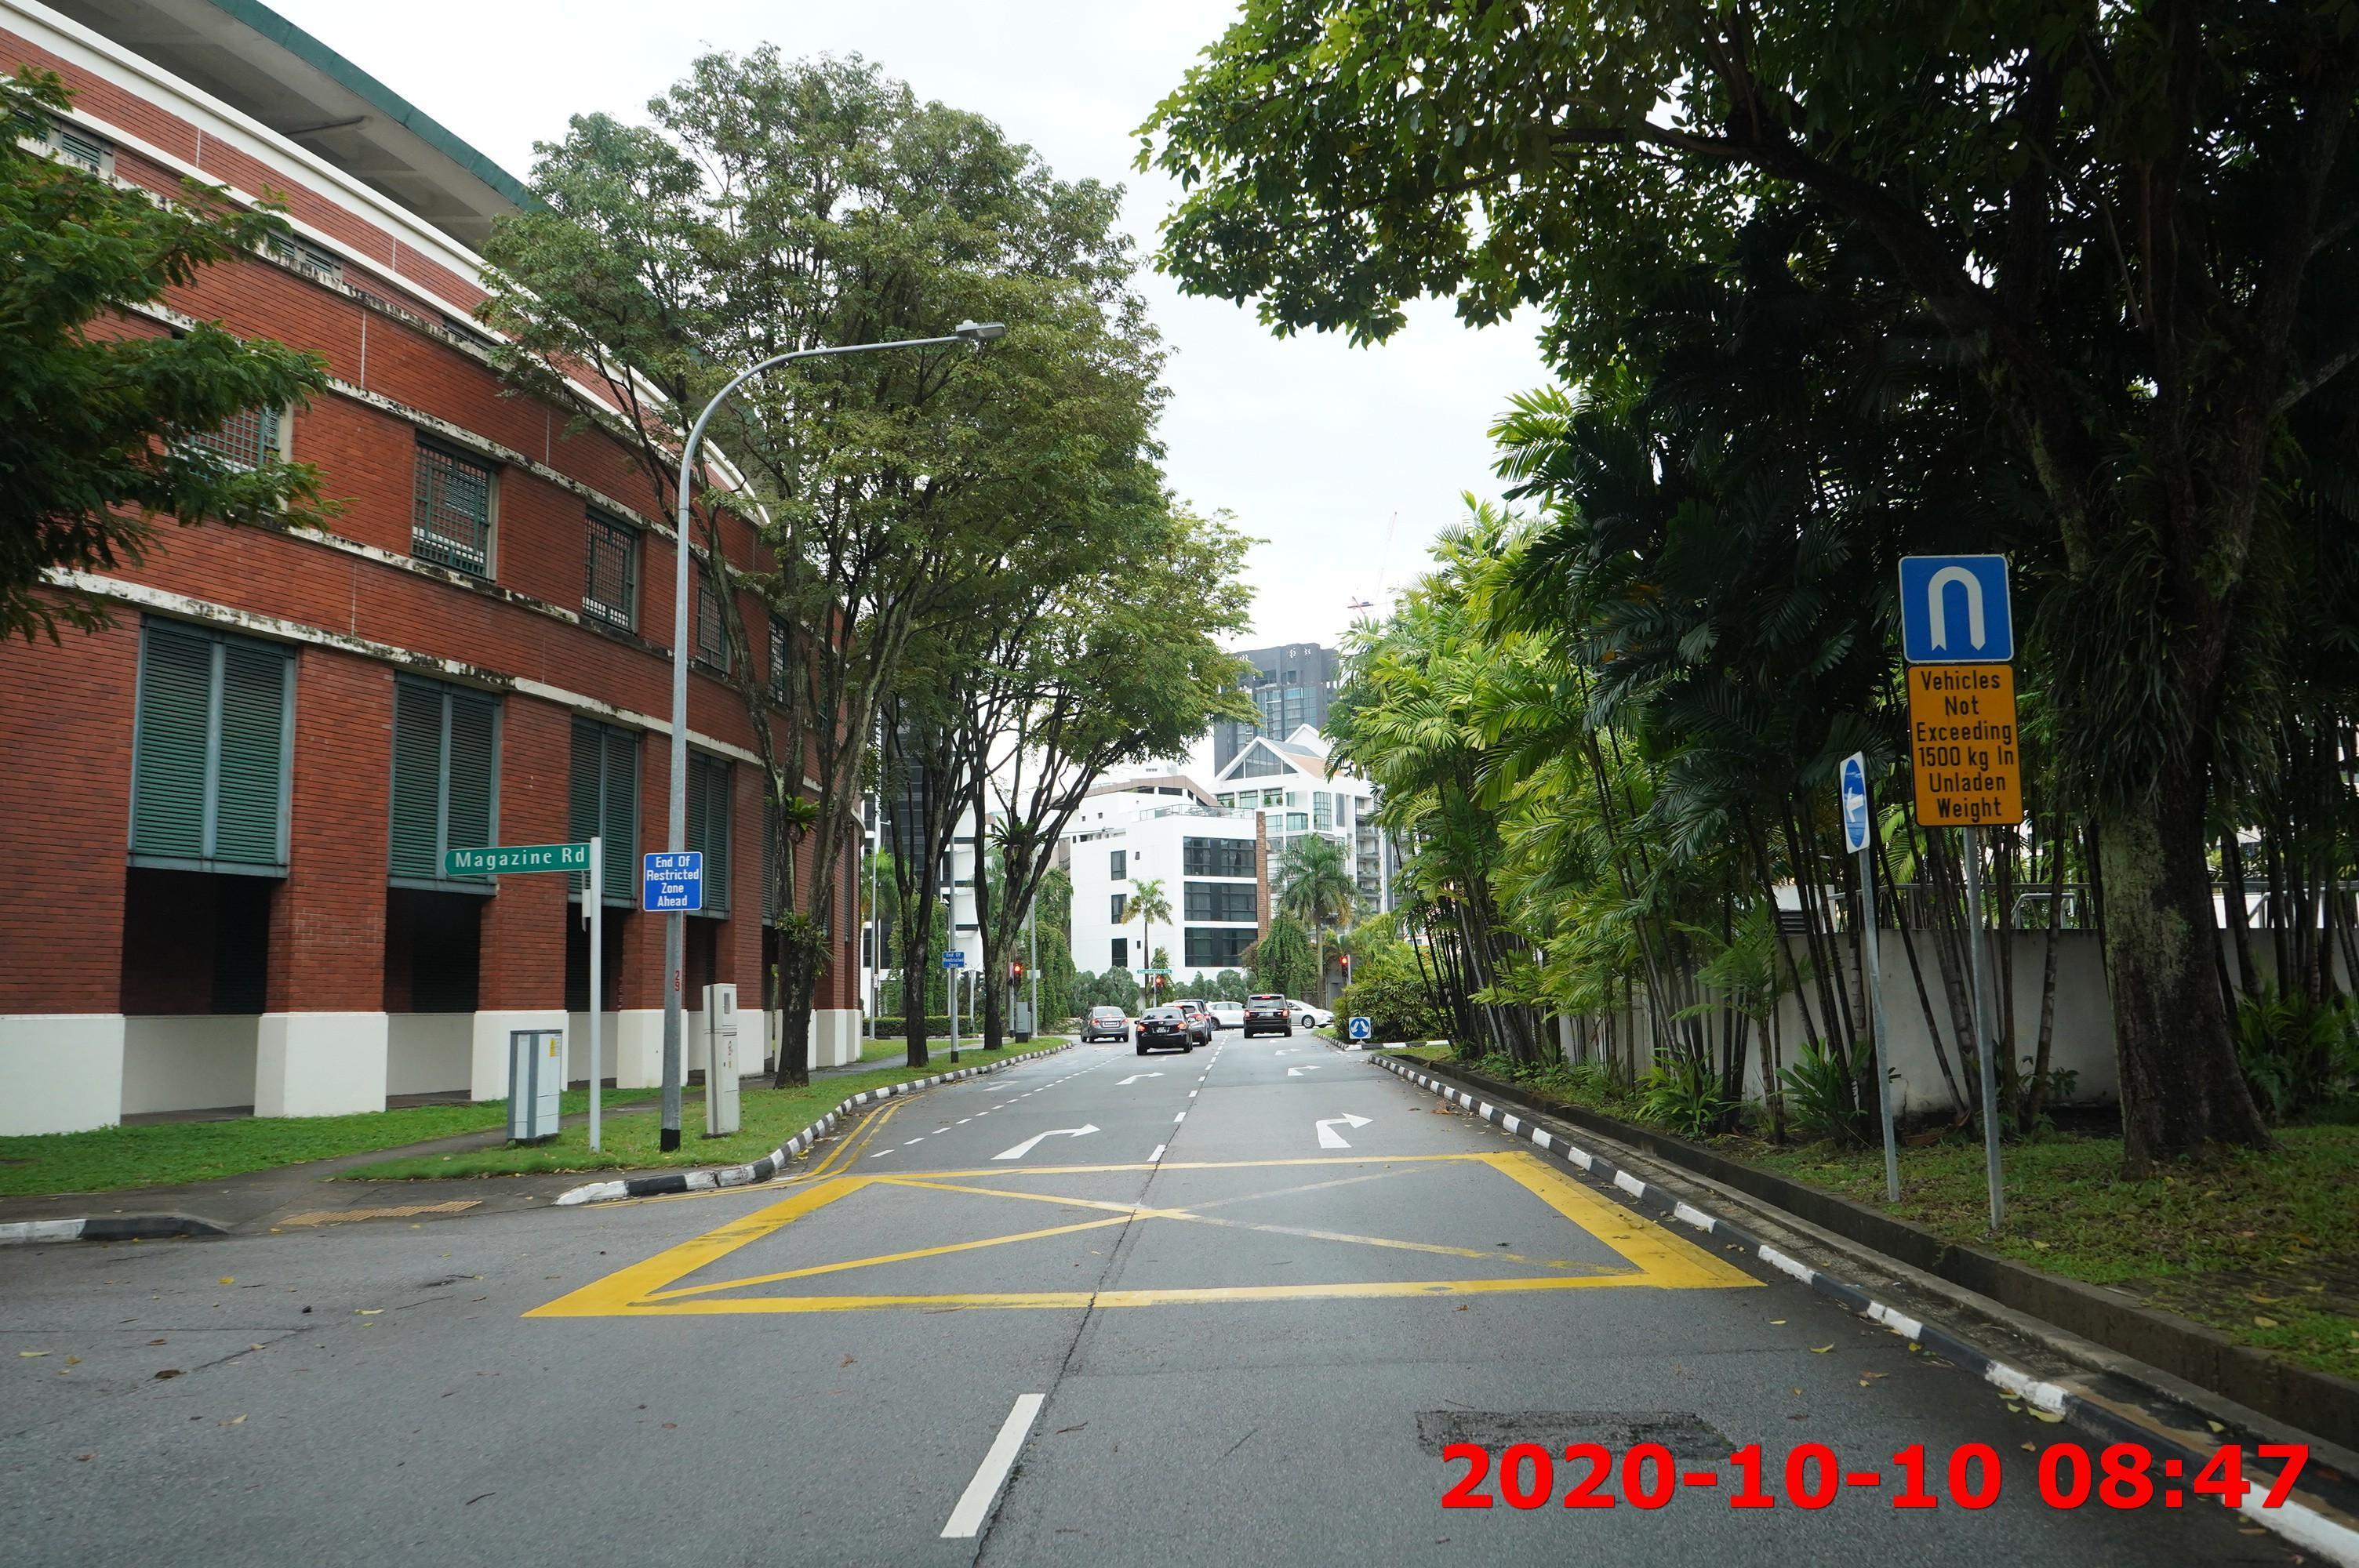damaged base crack: (1407, 1400, 1748, 1467)
